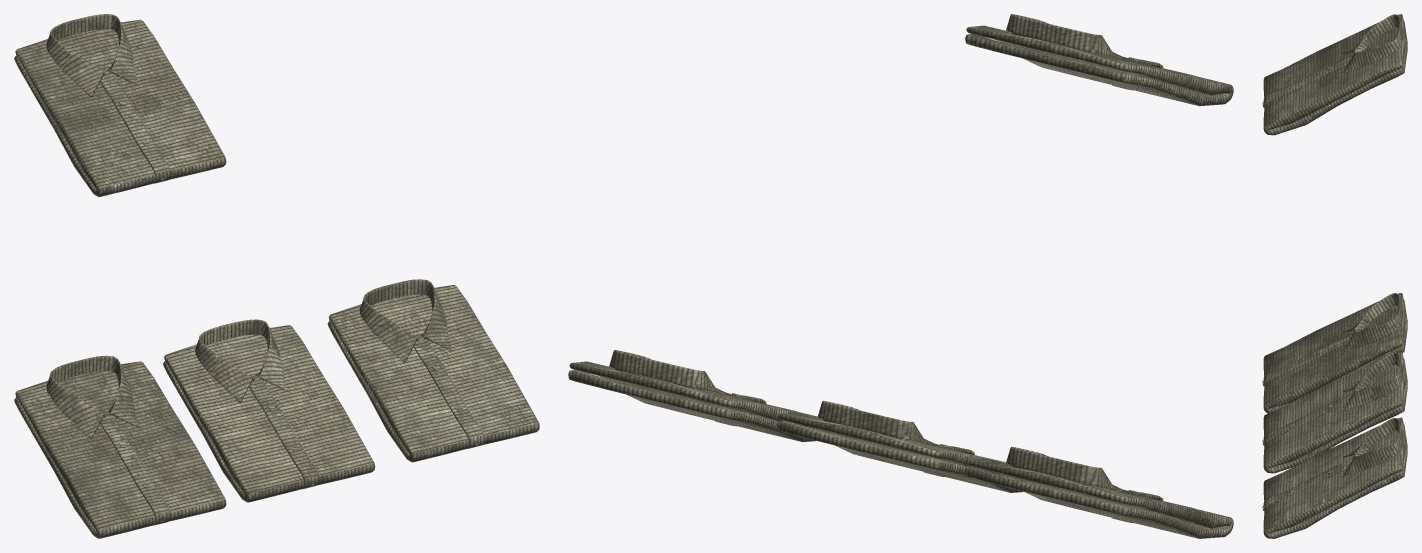
The model's file is chenshan01.fbx.
3 renders of one model, left to right at view 1: azimuth 30°, elevation 25°; view 2: azimuth 150°, elevation 25°; view 3: azimuth 270°, elevation 25°, orthographic. The views are drawn at different scales.
Parts seen in each view (by area): view 1: chenshan01; view 2: chenshan01; view 3: chenshan01.
Boxes of the visible parts, <box> form: chenshan01: <box>14,14,539,538</box>; chenshan01: <box>568,14,1233,538</box>; chenshan01: <box>1262,14,1407,538</box>.
Bounding box in the file's own units: 84.85 × 81.77 × 29.46.
